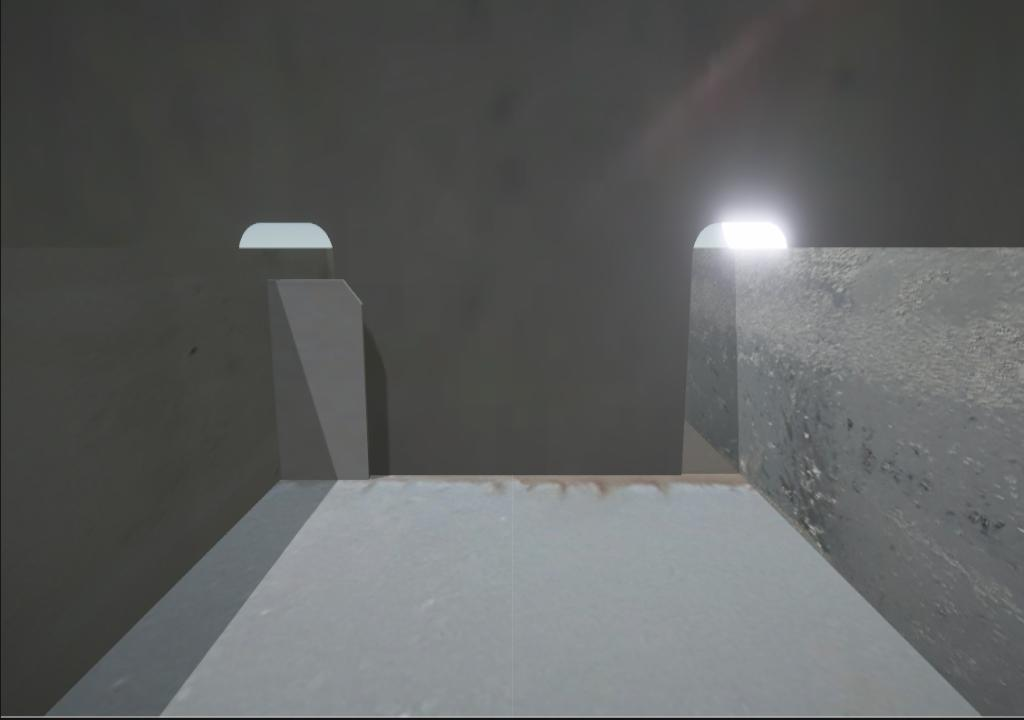fillet_yong_jeop_jang: (371, 468, 688, 480)
plate_CP03: (267, 278, 371, 480)
